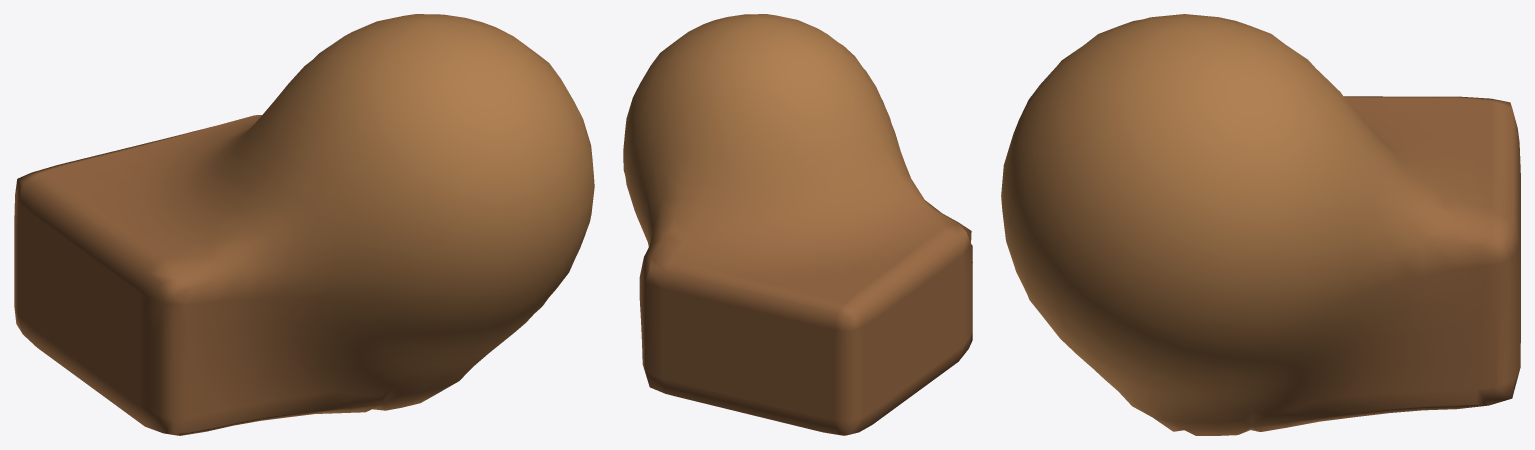
File: 44_quads_1000.obj
3 renders of one model, left to right at view 1: azimuth 30°, elevation 25°; view 2: azimuth 150°, elevation 25°; view 3: azimuth 270°, elevation 25°, orthographic. The views are drawn at different scales.
Visible parts, largest first — view 1: claycore; view 2: claycore; view 3: claycore.
Boxes of the visible parts, x1,y1,x2,y2 form: claycore: (14, 14, 594, 435); claycore: (623, 14, 972, 435); claycore: (1001, 14, 1520, 435).
Bounding box in the file's own units: 0.7478 × 0.6289 × 0.7274.
